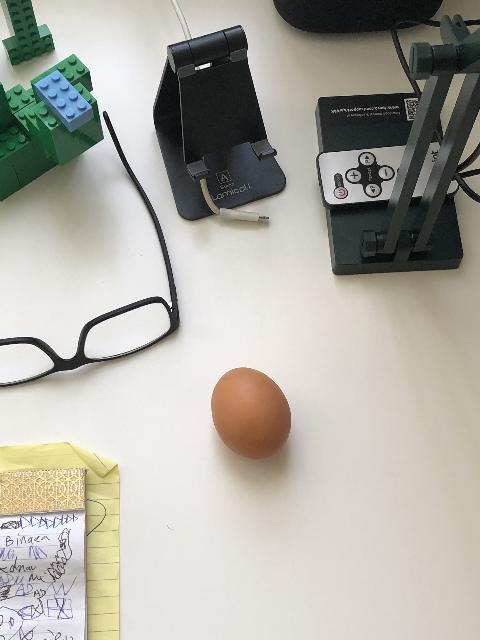Sano: (210, 365, 292, 459)
